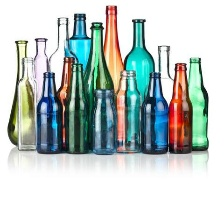bottle: (77, 19, 117, 152), (4, 35, 36, 146), (183, 52, 211, 153), (123, 13, 156, 98), (142, 39, 182, 107), (97, 2, 127, 92), (138, 72, 170, 155), (47, 14, 81, 92), (113, 66, 142, 156), (63, 61, 90, 157), (168, 61, 194, 156), (38, 69, 65, 156), (16, 55, 40, 151), (62, 9, 95, 73), (87, 87, 117, 157), (57, 54, 73, 154), (31, 35, 51, 102)
